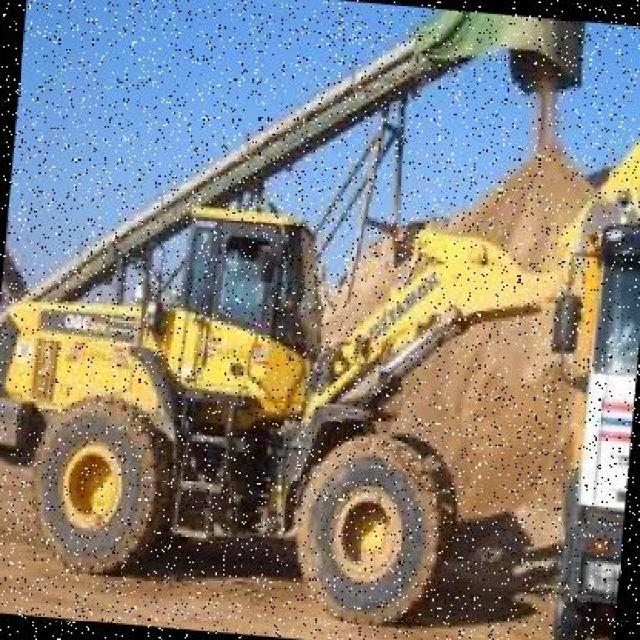buldozerpayloadergrader: (0, 150, 483, 628)
